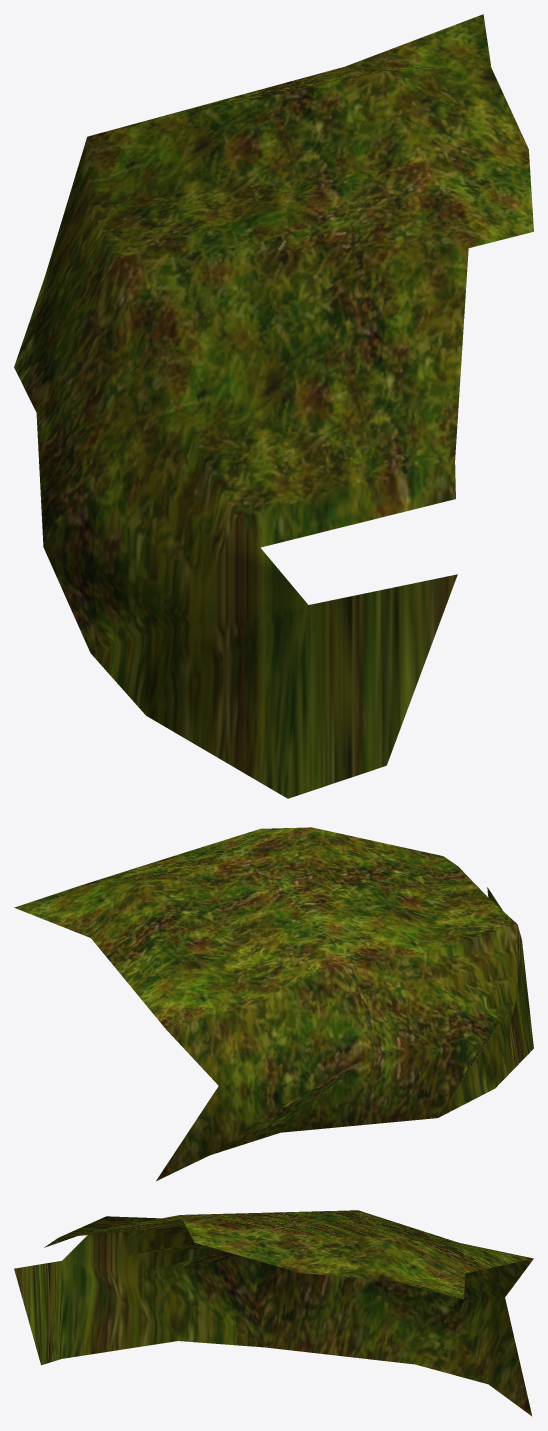
Rendered from TROLLHOLE02_RM_PSURF121.fbx.
3 renders of one model, top to bottom at view 1: azimuth 30°, elevation 25°; view 2: azimuth 150°, elevation 25°; view 3: azimuth 270°, elevation 25°, orthographic. The views are drawn at different scales.
Parts seen in each view (by area): view 1: TROLLHOLE02_RM_PSURF121; view 2: TROLLHOLE02_RM_PSURF121; view 3: TROLLHOLE02_RM_PSURF121.
Part boxes in pixels (x1,y1,x2,y2): TROLLHOLE02_RM_PSURF121: [14, 14, 533, 798]; TROLLHOLE02_RM_PSURF121: [14, 827, 533, 1181]; TROLLHOLE02_RM_PSURF121: [14, 1210, 533, 1416].
Size of the model in its own units: 74911 by 46523 by 96286.
1 material, 1 textured.
